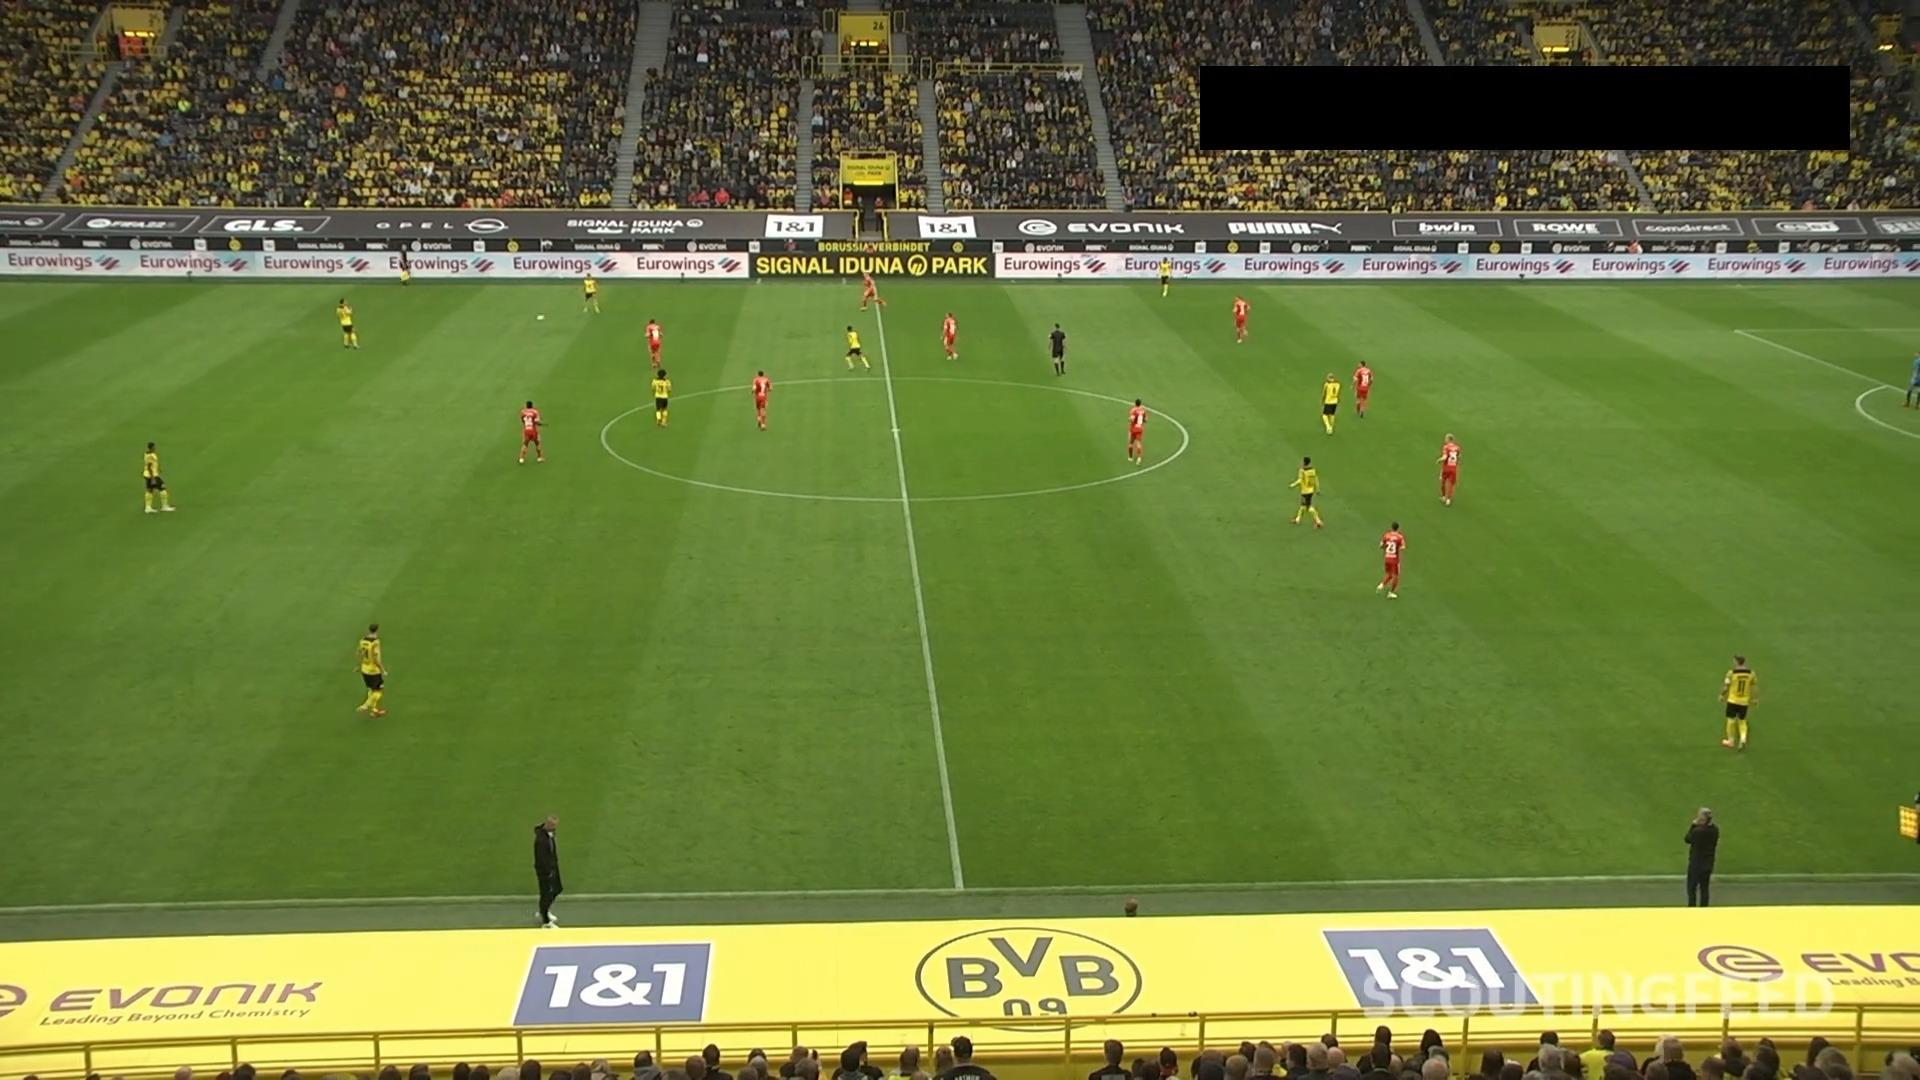ball: (534, 313, 547, 322)
